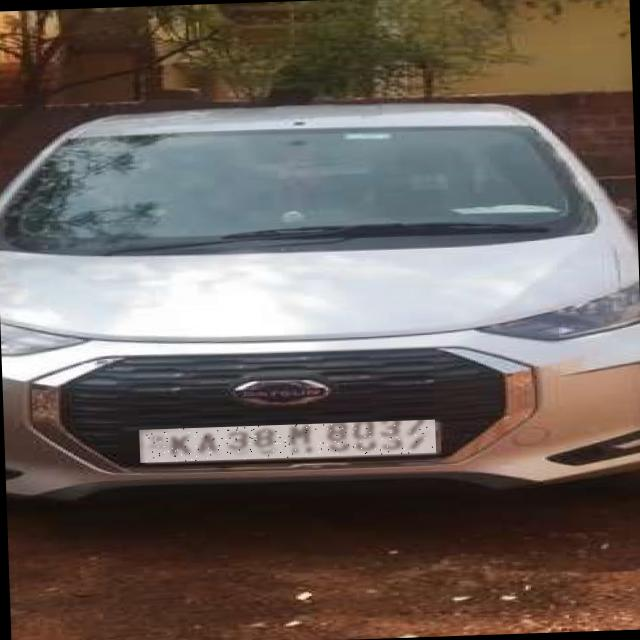Plate: (140, 420, 437, 463)
